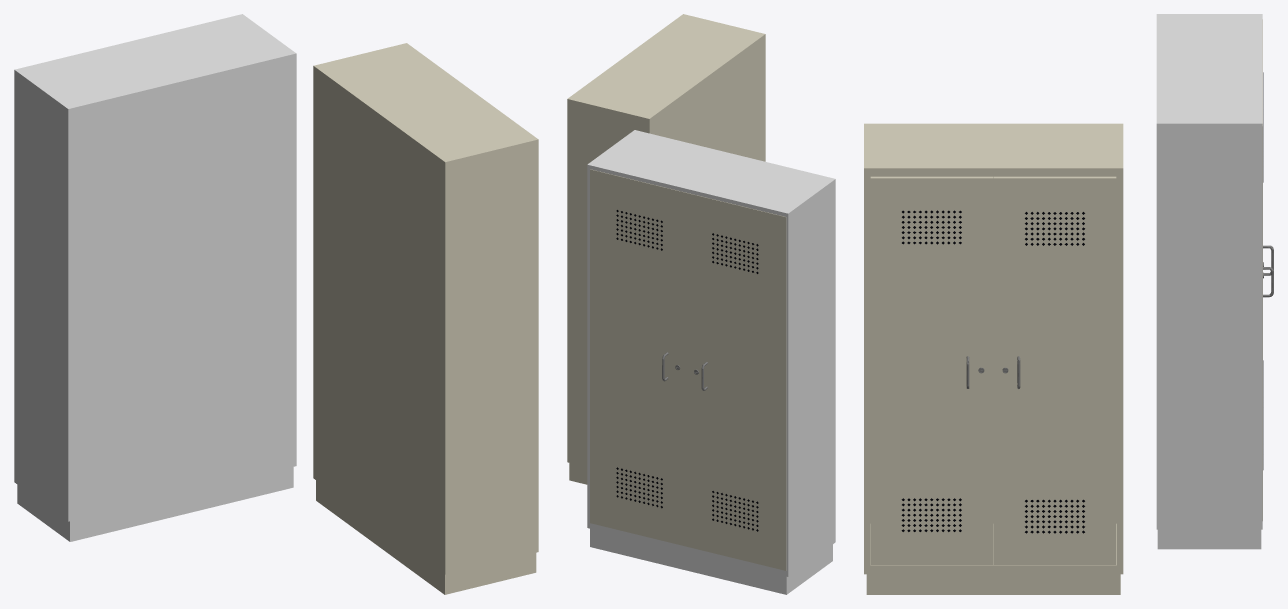
File: Armarios.fbx
3 renders of one model, left to right at view 1: azimuth 30°, elevation 25°; view 2: azimuth 150°, elevation 25°; view 3: azimuth 270°, elevation 25°, orthographic. The views are drawn at different scales.
Visible parts, largest first — view 1: LACA 3 Y 4, LACA 1 Y 2.006; view 2: Cubo.169, Cubo.173, LACA 3 Y 4, LACA 1 Y 2.006; view 3: LACA 1 Y 2.006, LACA 3 Y 4, Cubo.169.
Boxes of the visible parts, x1,y1,x2,y2 form: LACA 3 Y 4: (14,14,296,541); LACA 1 Y 2.006: (313,43,538,594); Cubo.169: (590,169,688,546); Cubo.173: (688,193,786,570); LACA 3 Y 4: (587,130,835,594); LACA 1 Y 2.006: (567,14,765,484); LACA 1 Y 2.006: (864,123,1123,594); LACA 3 Y 4: (1156,14,1262,549); Cubo.169: (1262,72,1273,520).
Bounding box in the file's own units: 160 × 200 × 174.
